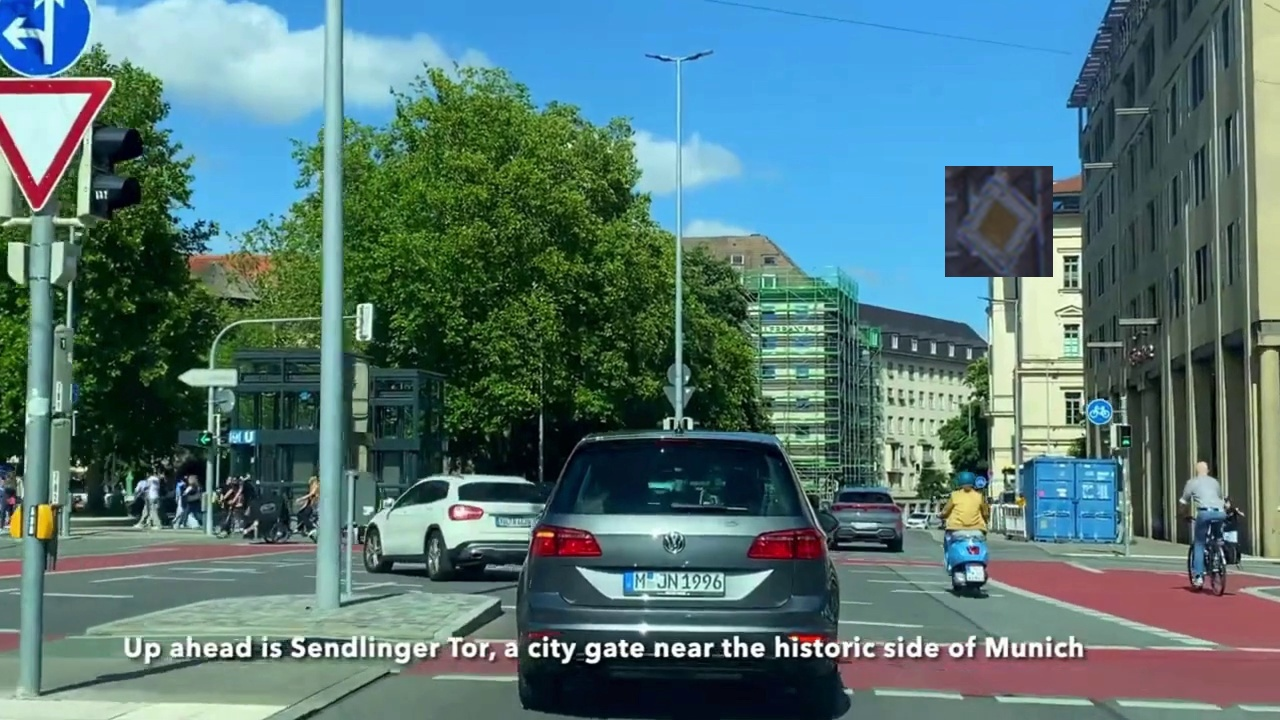Priority road: (945, 166, 1053, 277)
